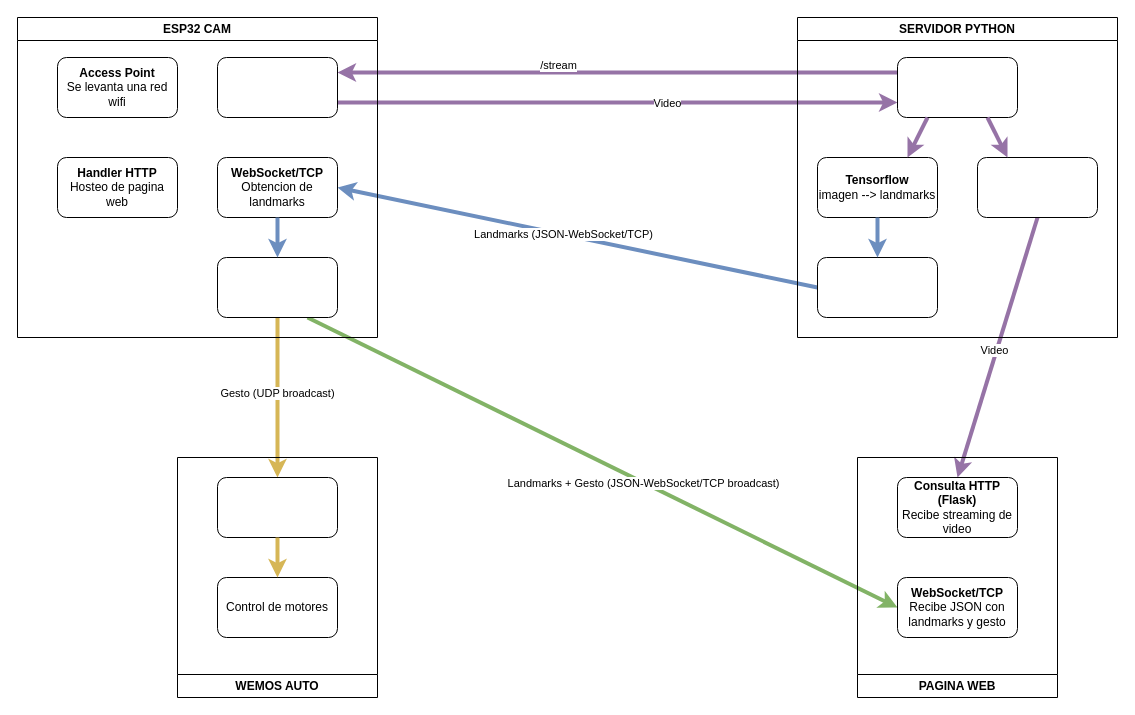
This 1135x715 diagram has some shape labels left out. Here are the shapes that lost their labels. From the top down, the centre of each, then its label:
At point 277,87: "Handler HTTP Streaming de video".
At point 957,87: "Constulta HTTP Streaming de video".
At point 1037,187: "Handler HTTP (Flask) Re-Transmision de video".
At point 277,287: "Tensorflow LITE landmarks --> gestos".
At point 877,287: "Websocket/TCP Envio de landmarks formato JSON".
At point 277,507: "UDP Obtiene gesto".
